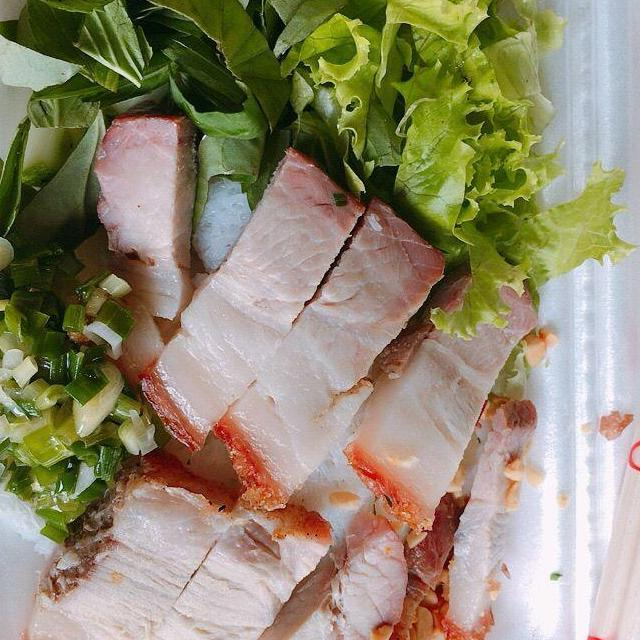thit heo quay: (202, 189, 453, 518), (131, 140, 372, 461), (330, 257, 552, 556), (9, 446, 340, 640), (45, 103, 211, 396), (193, 503, 415, 640), (428, 391, 544, 640)
